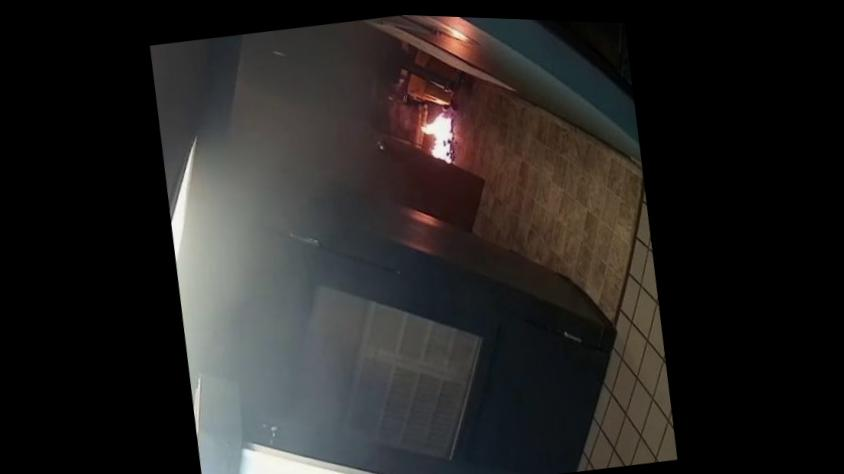fire: (399, 47, 491, 189)
